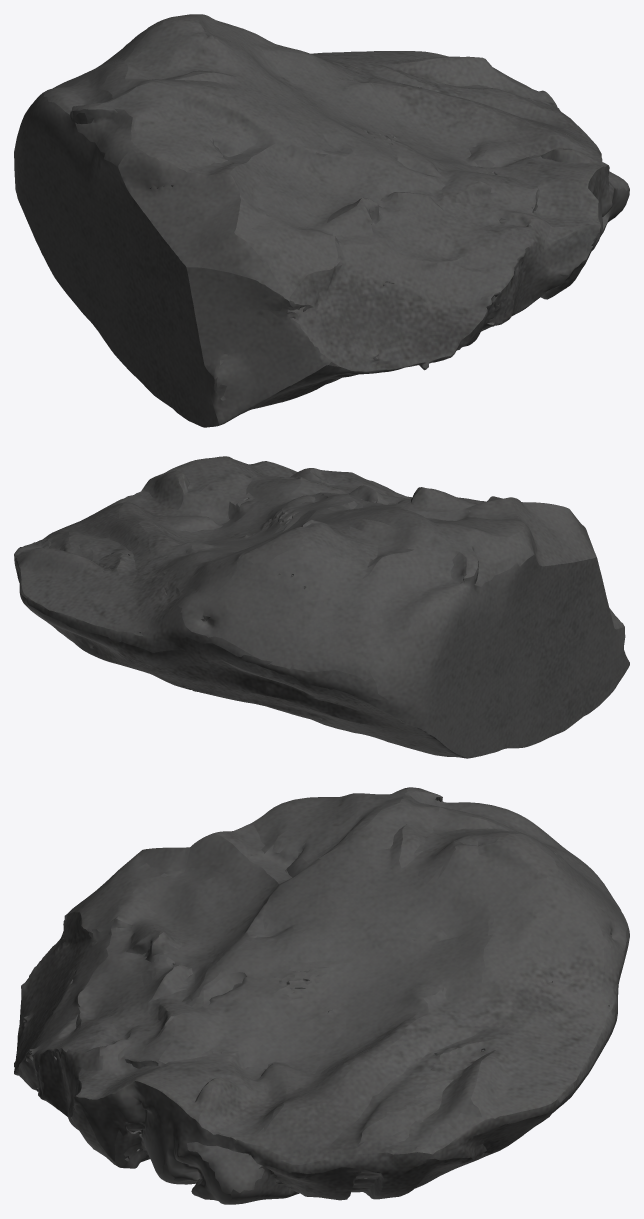
3 views of the same model, one above another, from view 1: azimuth 30°, elevation 25°; view 2: azimuth 150°, elevation 25°; view 3: azimuth 270°, elevation 25° (orthographic). The views are drawn at different scales.
Parts seen in each view (by area): view 1: world; view 2: world; view 3: world.
Boxes of the visible parts, bbox=[...] form: world: bbox=[14, 14, 629, 427]; world: bbox=[14, 456, 629, 758]; world: bbox=[14, 787, 629, 1204].
Bounding box in the file's own units: 1.2 × 0.6064 × 1.2.
Materials: 1 (1 with a texture image).
